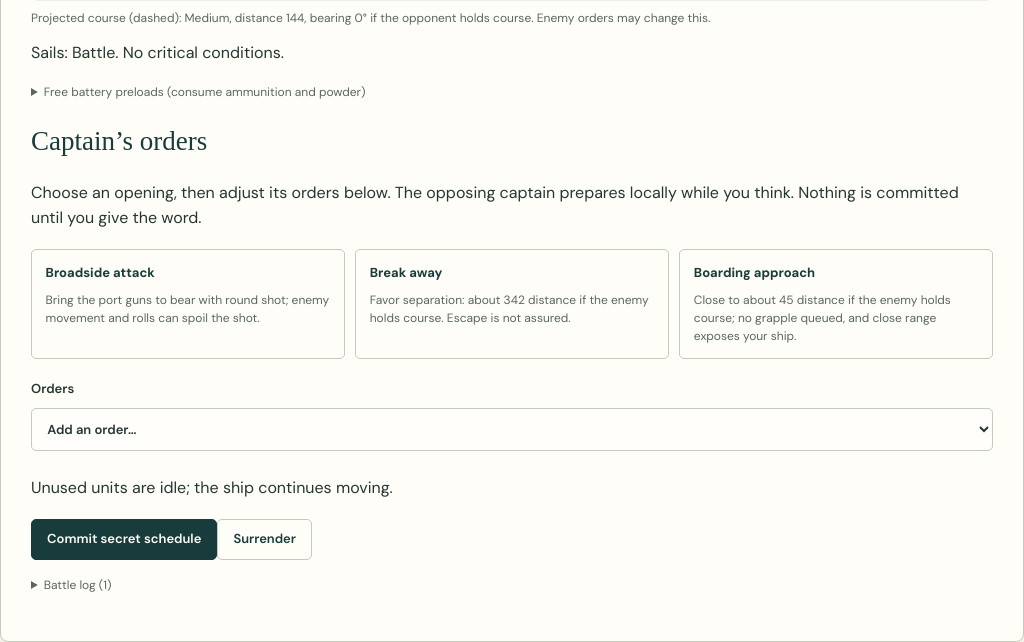
asks before replacing edited orders and cancellation retains the original plan
(page scrolled)
Select "turn 45° starboard · 95 units" in the dropdown labelled "Orders" at (512,430), box x1=31 y1=408 x2=993 y2=451
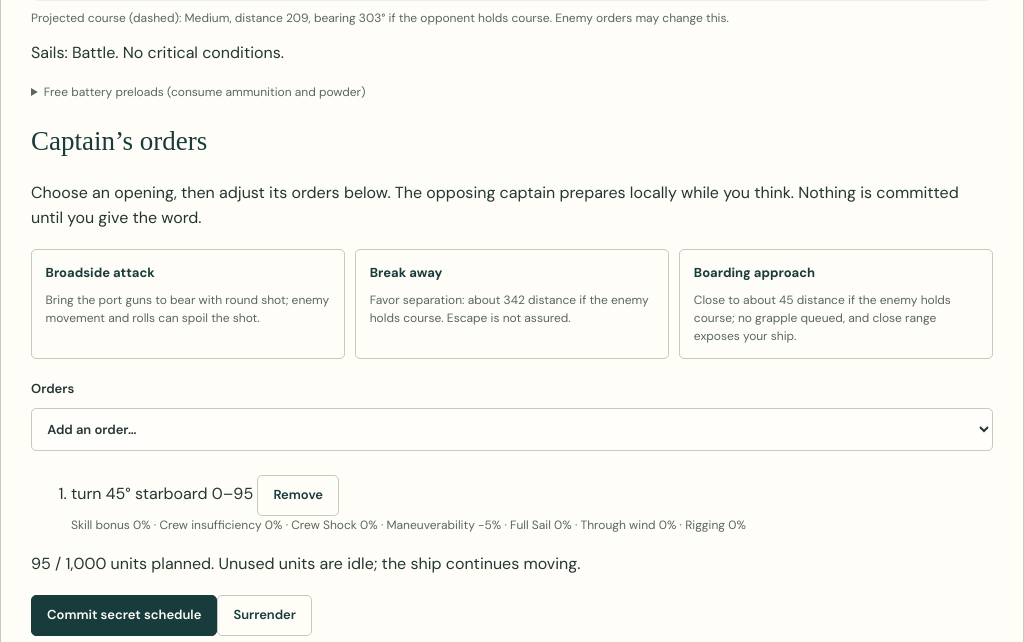
Click the button that starts with "Broadside attack" at (188,304), box x1=31 y1=249 x2=345 y2=359
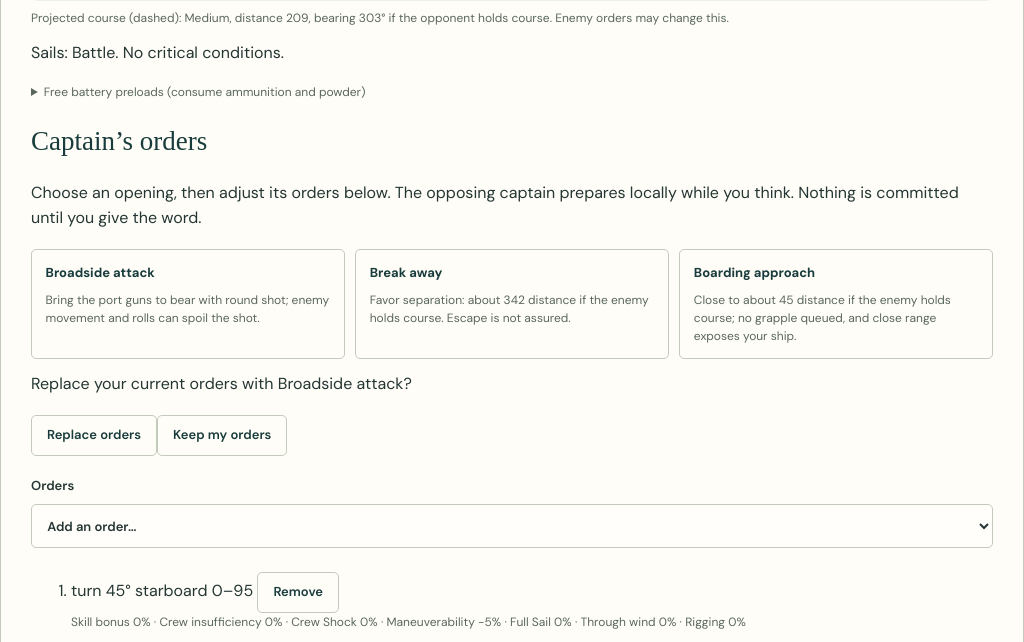
Now the button "Replace orders" is shown, box x1=31 y1=415 x2=157 y2=456
Click the button "Keep my orders" at (222,435), box x1=157 y1=415 x2=287 y2=456
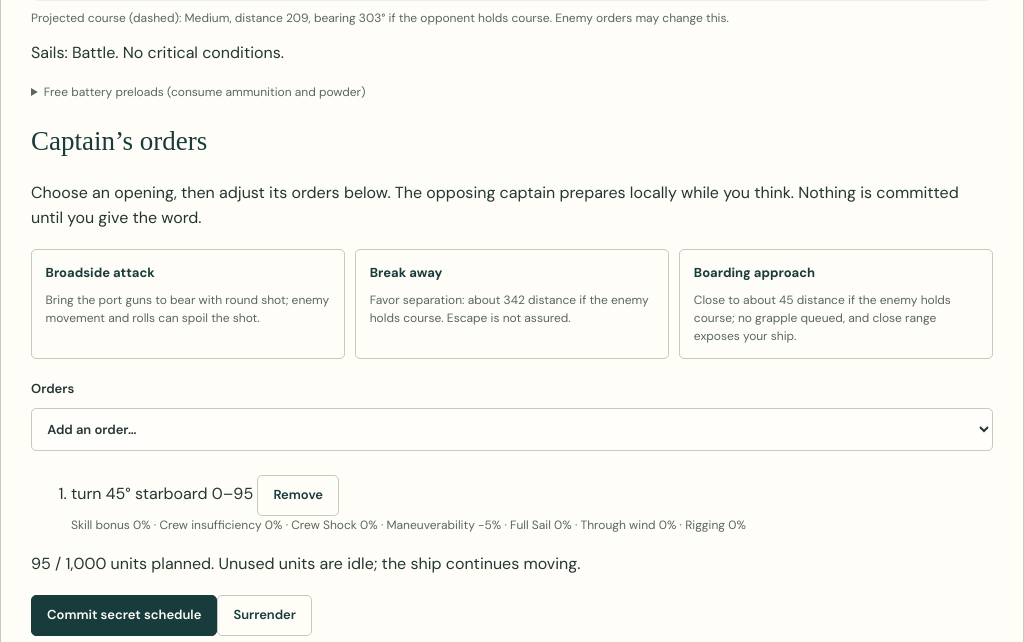
Now the button with aria-label "Remove order 1" is shown, box x1=258 y1=475 x2=339 y2=516
Now the button "Replace orders" is gone
